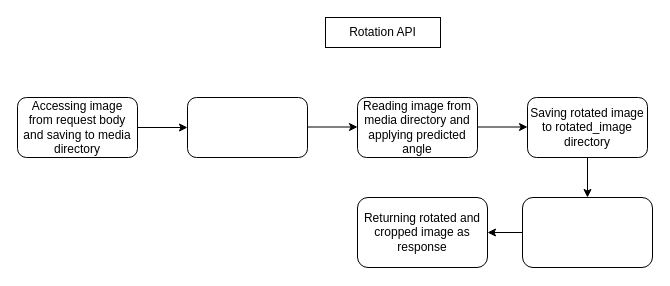
This 670x286 diagram has some shape labels left out. The centre of each missing label's shape, as x and y in pixels:
Applying auto crop to rotated image and saving to cropped_image directory: pixel 587 232
Loading model and predicting angle: pixel 247 127
